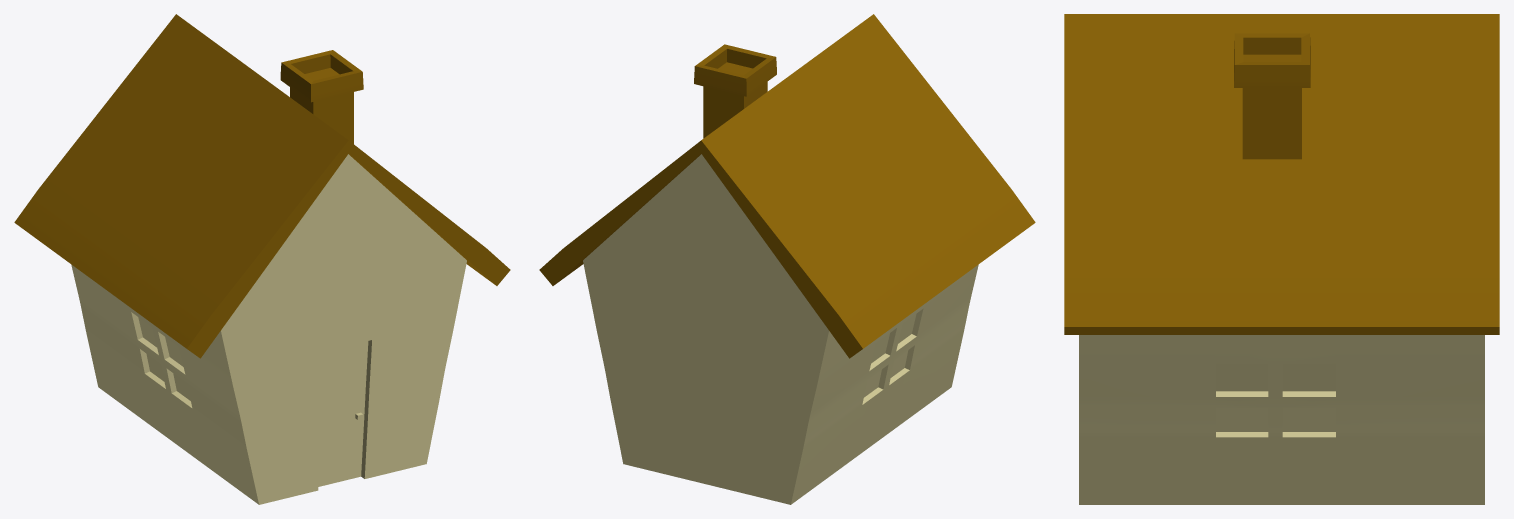
File: Maison - Copy.fbx
3 renders of one model, left to right at view 1: azimuth 30°, elevation 25°; view 2: azimuth 150°, elevation 25°; view 3: azimuth 270°, elevation 25°, orthographic. The views are drawn at different scales.
Visible parts, largest first — view 1: pCube4; view 2: pCube4; view 3: pCube4.
Part boxes in pixels (bbox=[...]): pCube4: bbox=[14, 14, 510, 504]; pCube4: bbox=[539, 14, 1035, 504]; pCube4: bbox=[1064, 14, 1499, 504].
Size of the model in its own units: 5.94 by 6.11 by 5.49.
